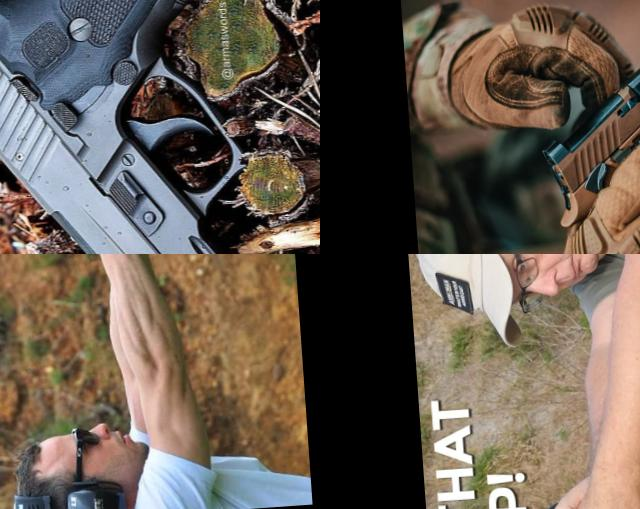handgun: (0, 0, 317, 254), (525, 0, 640, 254), (29, 254, 130, 290), (541, 494, 604, 509)
